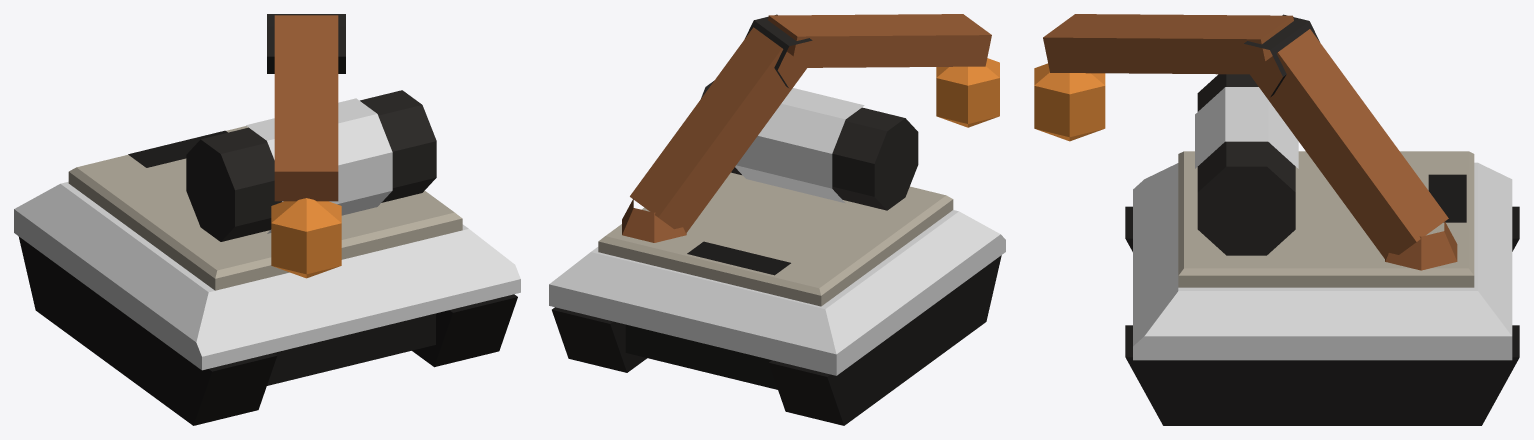
The model's file is lnd_t1_engineer.3579a7b1.raw.glb.
3 renders of one model, left to right at view 1: azimuth 30°, elevation 25°; view 2: azimuth 150°, elevation 25°; view 3: azimuth 270°, elevation 25°, orthographic. The views are drawn at different scales.
Parts seen in each view (by area): view 1: lod0; view 2: lod0; view 3: lod0.
Part boxes in pixels (box(x1,y1,x2,y2)): lod0: box(14, 14, 520, 425); lod0: box(549, 14, 1005, 425); lod0: box(1034, 14, 1519, 425).
Size of what is drawn, in the model's own units: 0.98 by 0.9637 by 1.28.
